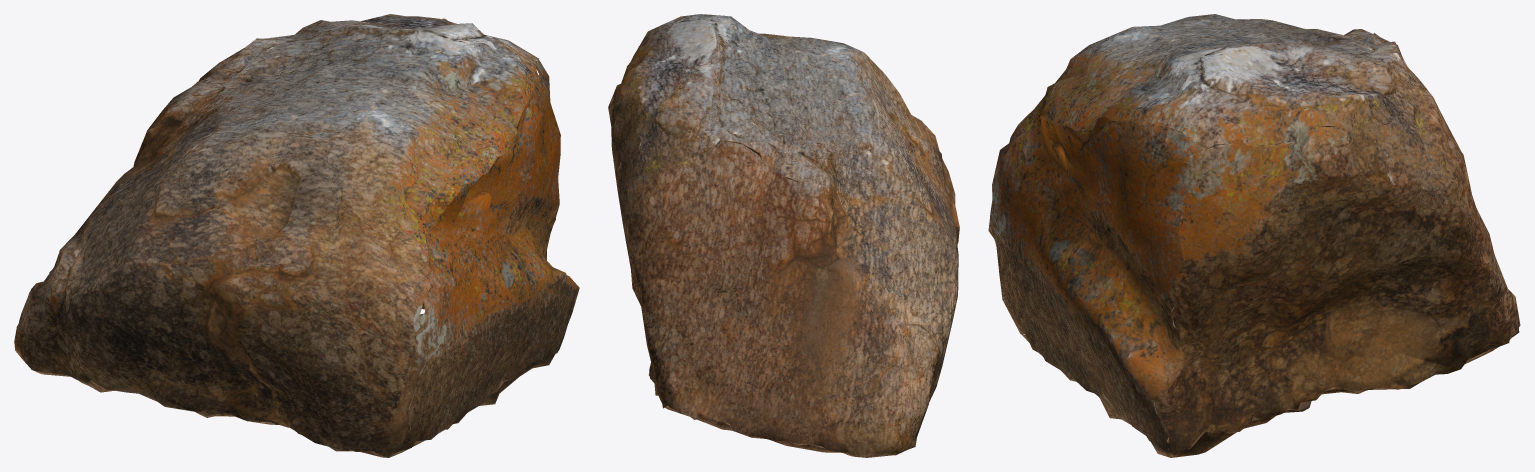
The model's file is boulder_a.glb.
The picture shows the model from 3 angles, left to right: view 1: azimuth 30°, elevation 25°; view 2: azimuth 150°, elevation 25°; view 3: azimuth 270°, elevation 25°; orthographic projection. The views are drawn at different scales.
Visible parts, largest first — view 1: boulder_04; view 2: boulder_04; view 3: boulder_04.
Boxes of the visible parts, x1,y1,x2,y2 form: boulder_04: (14,14,579,457); boulder_04: (608,14,959,457); boulder_04: (988,14,1520,457).
Bounding box in the file's own units: 2.51 × 1.88 × 2.49.
Materials: 1 (1 with a texture image).
